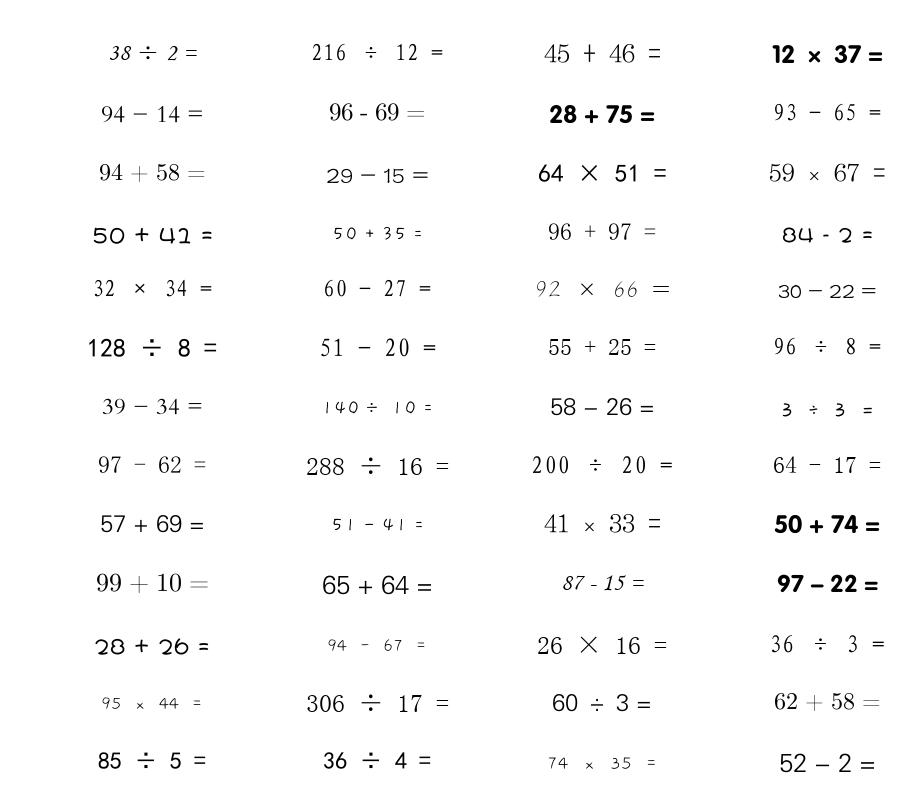MQ: (306, 457, 449, 475), (306, 694, 449, 712), (531, 456, 673, 474), (87, 338, 217, 357), (311, 43, 443, 61), (96, 573, 209, 594), (537, 636, 667, 654), (538, 164, 667, 182), (544, 44, 661, 63), (769, 163, 886, 182), (319, 338, 436, 357), (544, 514, 661, 533), (772, 44, 883, 64), (322, 575, 433, 595), (92, 279, 212, 297), (535, 281, 670, 297), (549, 104, 655, 124), (774, 514, 880, 534), (769, 635, 885, 653), (92, 227, 213, 244), (99, 163, 206, 182), (774, 692, 881, 711), (550, 397, 655, 416), (100, 514, 205, 533), (94, 638, 210, 655), (773, 103, 881, 121), (323, 279, 431, 297), (773, 337, 881, 355), (779, 753, 876, 773), (777, 574, 878, 593), (552, 693, 652, 712), (548, 223, 656, 240), (98, 456, 206, 473), (773, 456, 881, 473), (98, 752, 206, 769), (323, 752, 431, 769), (101, 106, 204, 123), (329, 103, 425, 121), (548, 339, 656, 355), (102, 398, 203, 415), (321, 401, 433, 415), (326, 168, 429, 183), (782, 227, 873, 243), (547, 757, 658, 770), (778, 284, 876, 298), (332, 226, 423, 241), (108, 46, 197, 61), (780, 403, 875, 417), (561, 575, 644, 591), (101, 697, 203, 710), (331, 518, 424, 532), (327, 639, 427, 652)
